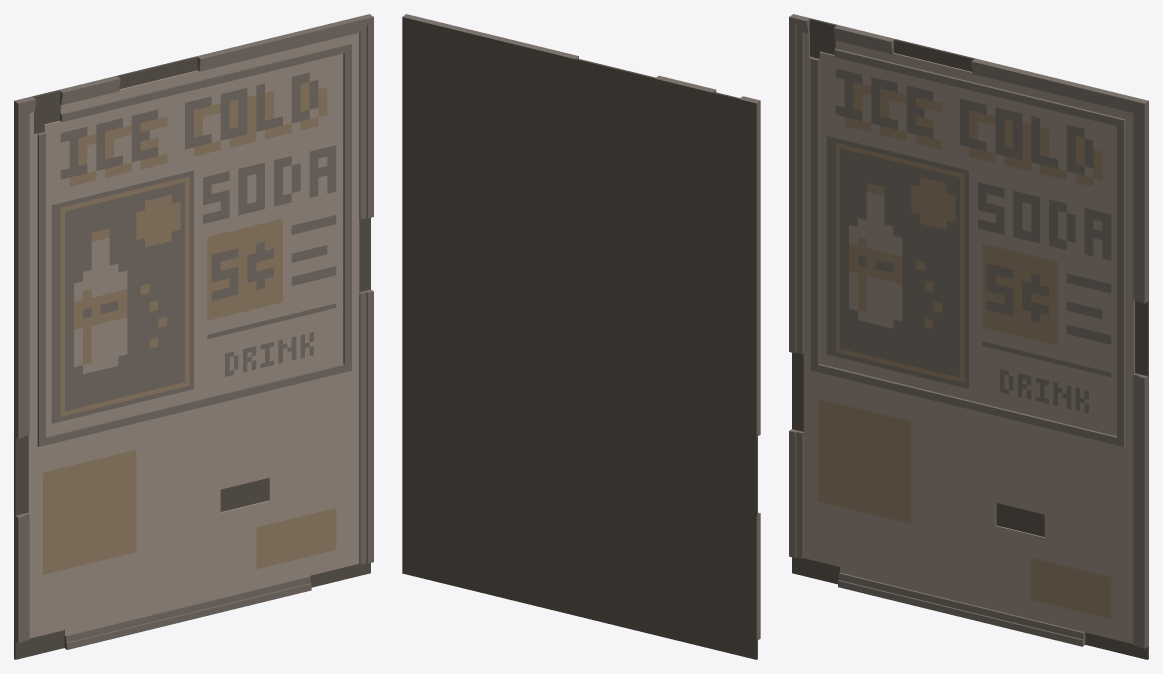
Rendered from painted-wall-ad-d8f971.glb.
3 renders of one model, left to right at view 1: azimuth 30°, elevation 25°; view 2: azimuth 150°, elevation 25°; view 3: azimuth 330°, elevation 25°, orthographic.
Parts seen in each view (by area): view 1: panel; view 2: panel; view 3: panel.
Boxes of the visible parts, x1,y1,x2,y2 form: panel: (14,14,373,659); panel: (402,14,760,659); panel: (789,14,1148,659).
Bounding box in the file's own units: 4 × 6 × 0.08.
